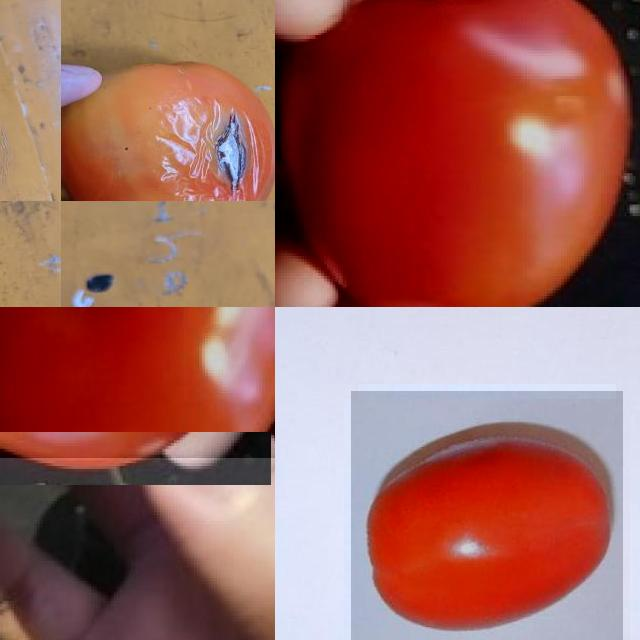Fresh Tomato: (275, 0, 640, 307), (351, 391, 623, 640), (0, 307, 275, 458)
